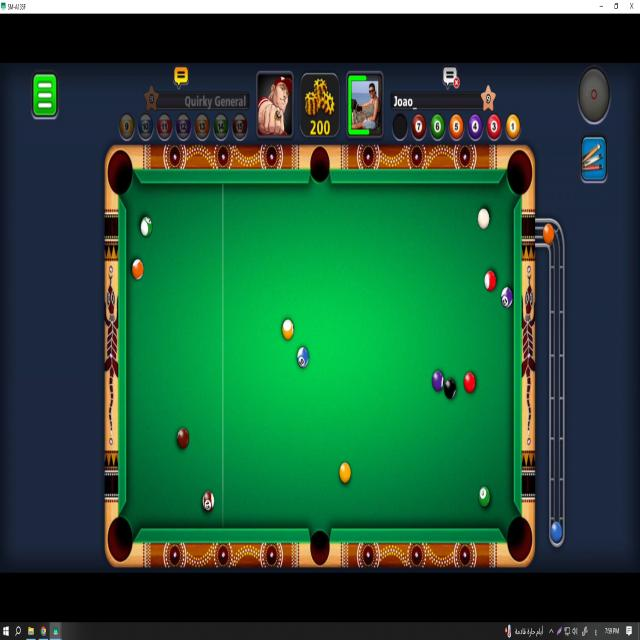object_ball: (501, 287, 512, 308), (282, 319, 293, 340), (178, 428, 189, 449), (132, 259, 143, 280), (203, 491, 214, 511), (479, 487, 490, 507), (141, 217, 152, 237), (432, 371, 443, 391), (444, 379, 455, 399), (297, 347, 308, 367), (339, 463, 350, 483), (485, 271, 496, 291), (464, 373, 475, 392)
white_cue_ball: (478, 208, 489, 229)
